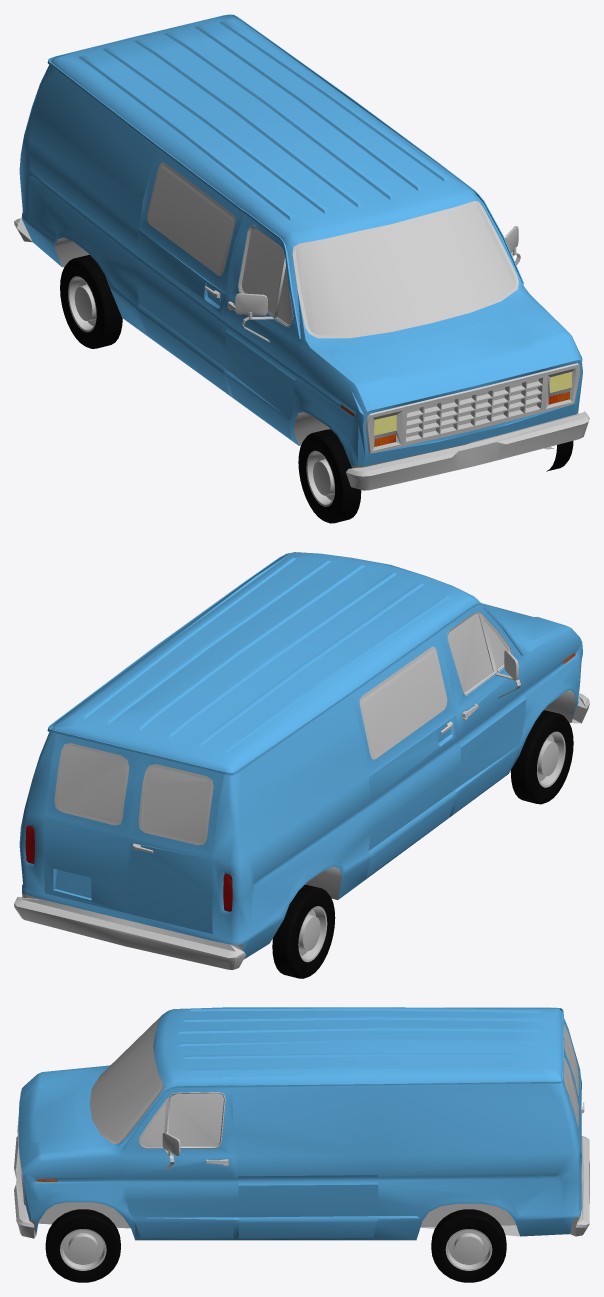
The model's file is xiaohuoche.gltf.
3 renders of one model, top to bottom at view 1: azimuth 30°, elevation 25°; view 2: azimuth 150°, elevation 25°; view 3: azimuth 270°, elevation 25°, orthographic. The views are drawn at different scales.
Visible parts, largest first — view 1: node_ChevyVan_bodydetachobj1_-199864, node_ChevyVan_bodydetachobj4_-199870, node_ChevyVan_bodydetachobj3_-199868, node_ChevyVan_bodydetachobj2_-199866, node_ChevyVan_bodydetachobj9_-199880, node_ChevyVan_bodydetachobj10_-199882, node_Shape001_-199884, node_ChevyVan_bodydetachobj8_-199878; view 2: node_ChevyVan_bodydetachobj1_-199864, node_ChevyVan_bodydetachobj4_-199870, node_ChevyVan_bodydetachobj9_-199880, node_ChevyVan_bodydetachobj2_-199866, node_ChevyVan_bodydetachobj3_-199868, node_ChevyVan_bodydetachobj10_-199882, node_Shape001_-199884, node_ChevyVan_bodydetachobj5_-199872; view 3: node_ChevyVan_bodydetachobj1_-199864, node_ChevyVan_bodydetachobj4_-199870, node_ChevyVan_bodydetachobj9_-199880, node_ChevyVan_bodydetachobj2_-199866, node_ChevyVan_bodydetachobj10_-199882, node_ChevyVan_bodydetachobj3_-199868, node_Shape001_-199884.
Part boxes in pixels (<box>): node_ChevyVan_bodydetachobj1_-199864: <box>19,14,582,468</box>; node_ChevyVan_bodydetachobj4_-199870: <box>149,165,515,335</box>; node_ChevyVan_bodydetachobj3_-199868: <box>14,218,589,490</box>; node_ChevyVan_bodydetachobj2_-199866: <box>17,162,581,467</box>; node_ChevyVan_bodydetachobj9_-199880: <box>60,255,573,523</box>; node_ChevyVan_bodydetachobj10_-199882: <box>68,276,554,506</box>; node_Shape001_-199884: <box>238,225,293,327</box>; node_ChevyVan_bodydetachobj8_-199878: <box>374,371,572,435</box>; node_ChevyVan_bodydetachobj1_-199864: <box>19,552,582,959</box>; node_ChevyVan_bodydetachobj4_-199870: <box>57,614,507,842</box>; node_ChevyVan_bodydetachobj9_-199880: <box>272,710,573,978</box>; node_ChevyVan_bodydetachobj2_-199866: <box>18,646,586,951</box>; node_ChevyVan_bodydetachobj3_-199868: <box>14,650,589,969</box>; node_ChevyVan_bodydetachobj10_-199882: <box>298,731,565,962</box>; node_Shape001_-199884: <box>447,611,512,695</box>; node_ChevyVan_bodydetachobj5_-199872: <box>25,825,232,911</box>; node_ChevyVan_bodydetachobj1_-199864: <box>18,1007,581,1240</box>; node_ChevyVan_bodydetachobj4_-199870: <box>91,1017,577,1146</box>; node_ChevyVan_bodydetachobj9_-199880: <box>45,1209,506,1282</box>; node_ChevyVan_bodydetachobj2_-199866: <box>23,1014,584,1237</box>; node_ChevyVan_bodydetachobj10_-199882: <box>60,1229,492,1270</box>; node_ChevyVan_bodydetachobj3_-199868: <box>14,1092,589,1238</box>; node_Shape001_-199884: <box>138,1092,225,1148</box>.
Bounding box in the file's own units: 2.44 × 2.08 × 5.3.
